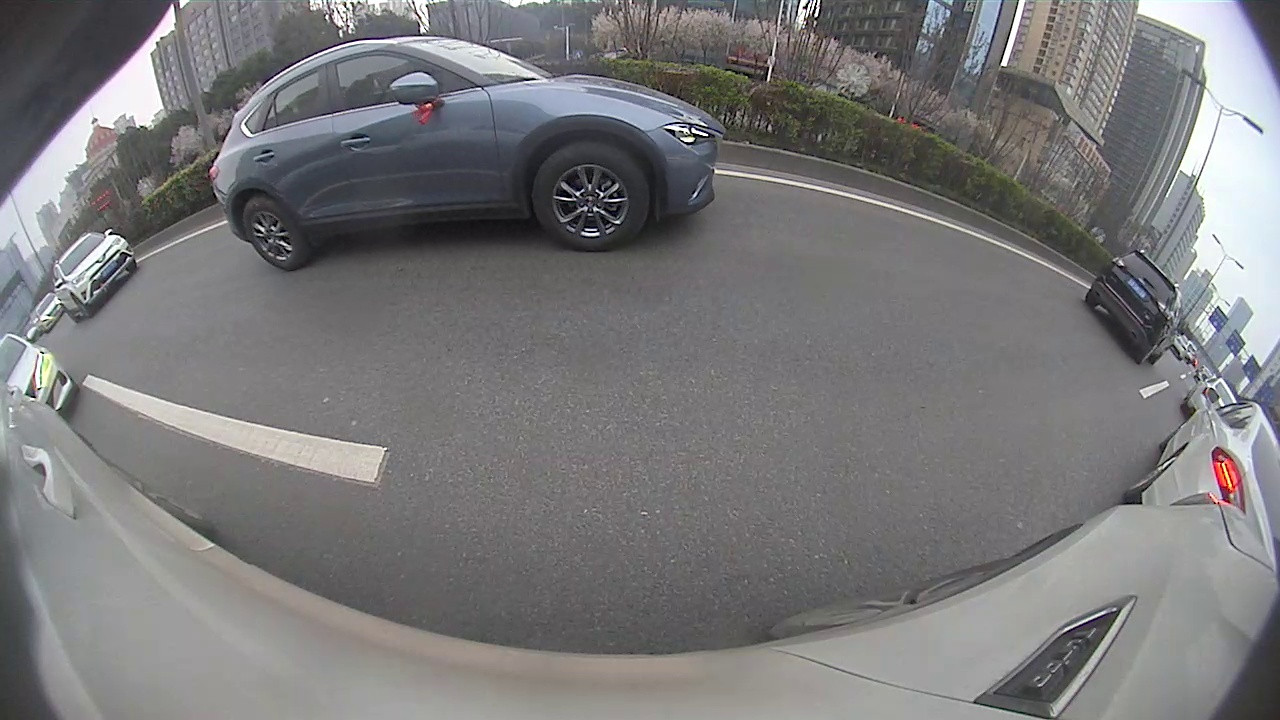car: (207, 35, 727, 270), (1120, 388, 1278, 572), (1083, 248, 1188, 367), (51, 228, 138, 324)
front: (532, 143, 654, 252)
rear: (244, 196, 302, 268)
